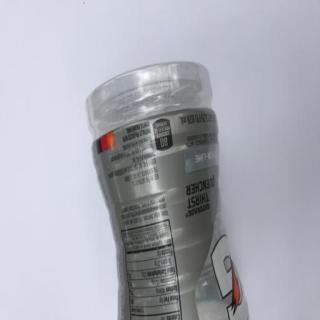Plastic-bottle: (84, 57, 253, 320)
